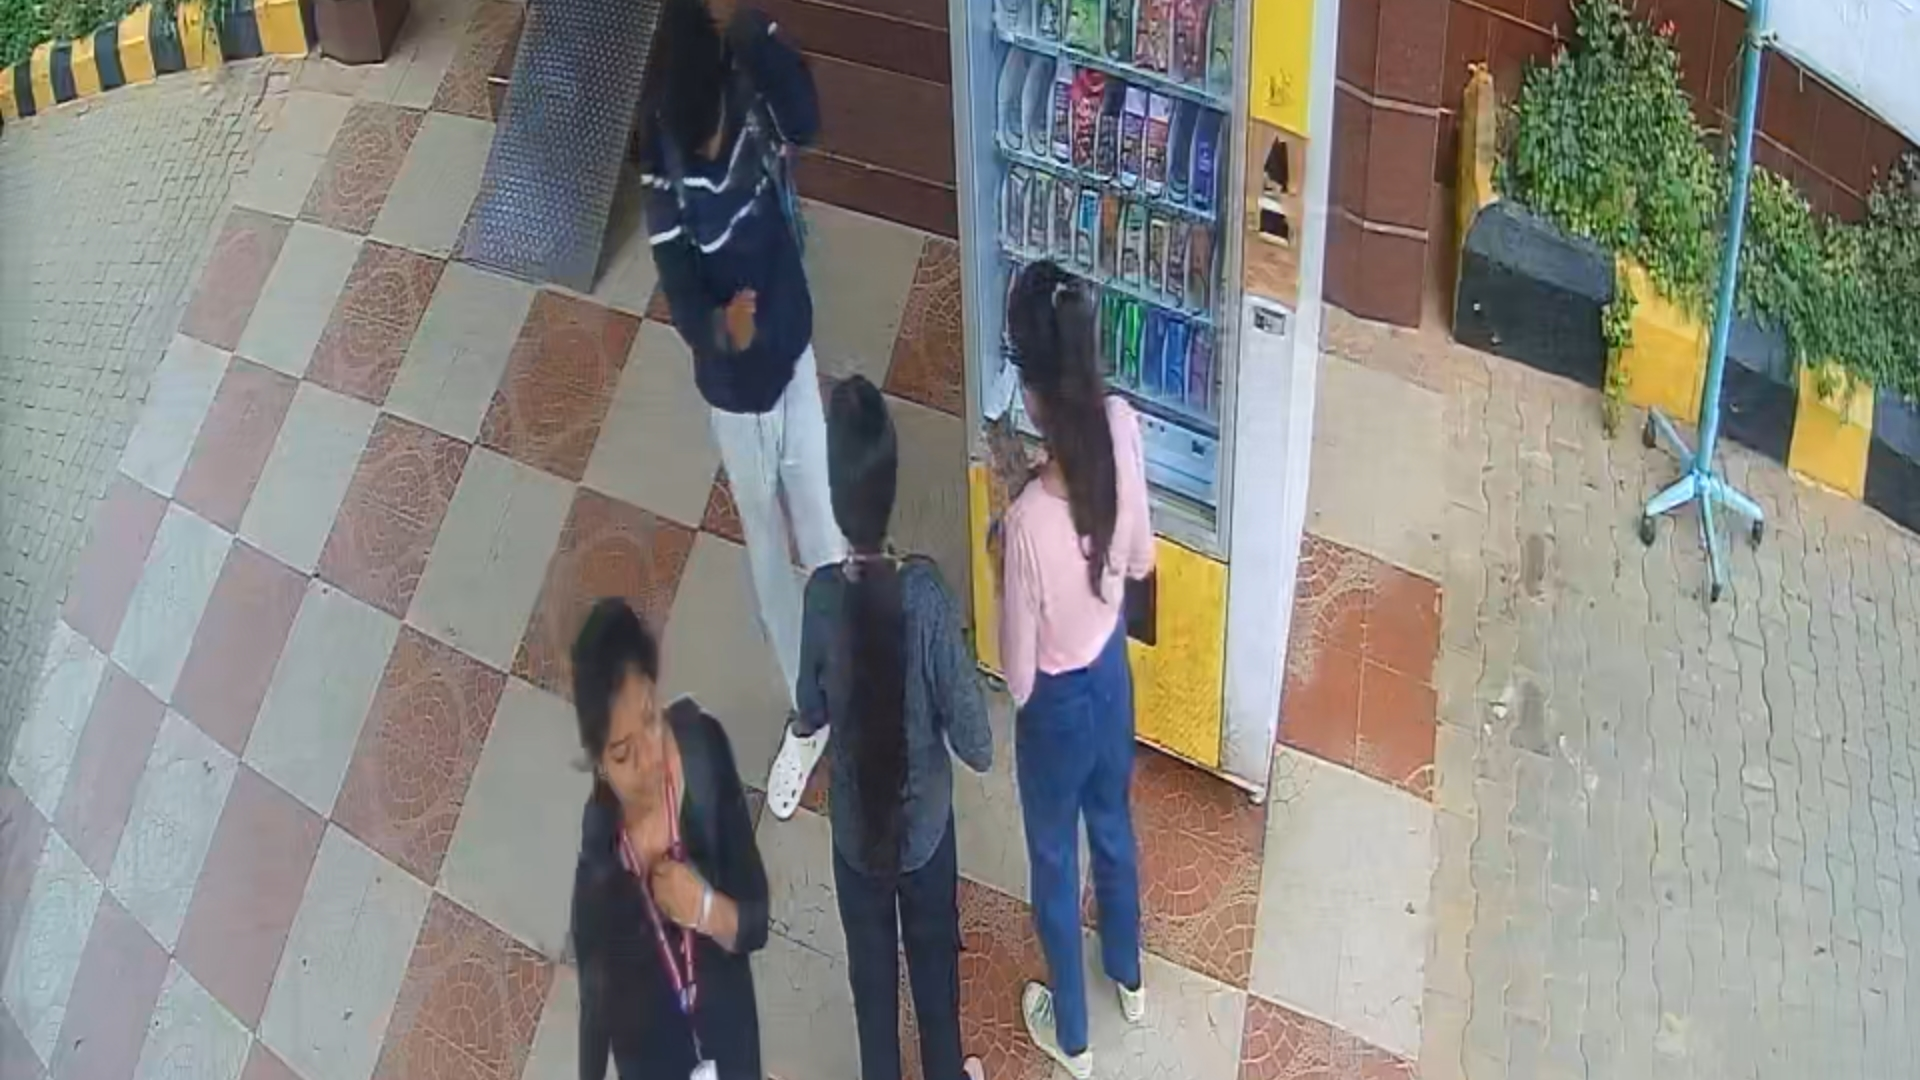not intruder: (554, 591, 771, 1080)
